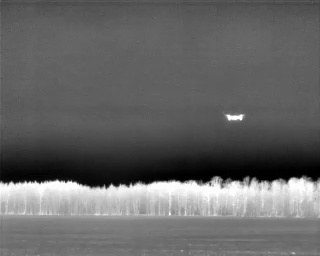DRONE: (221, 108, 248, 126)
